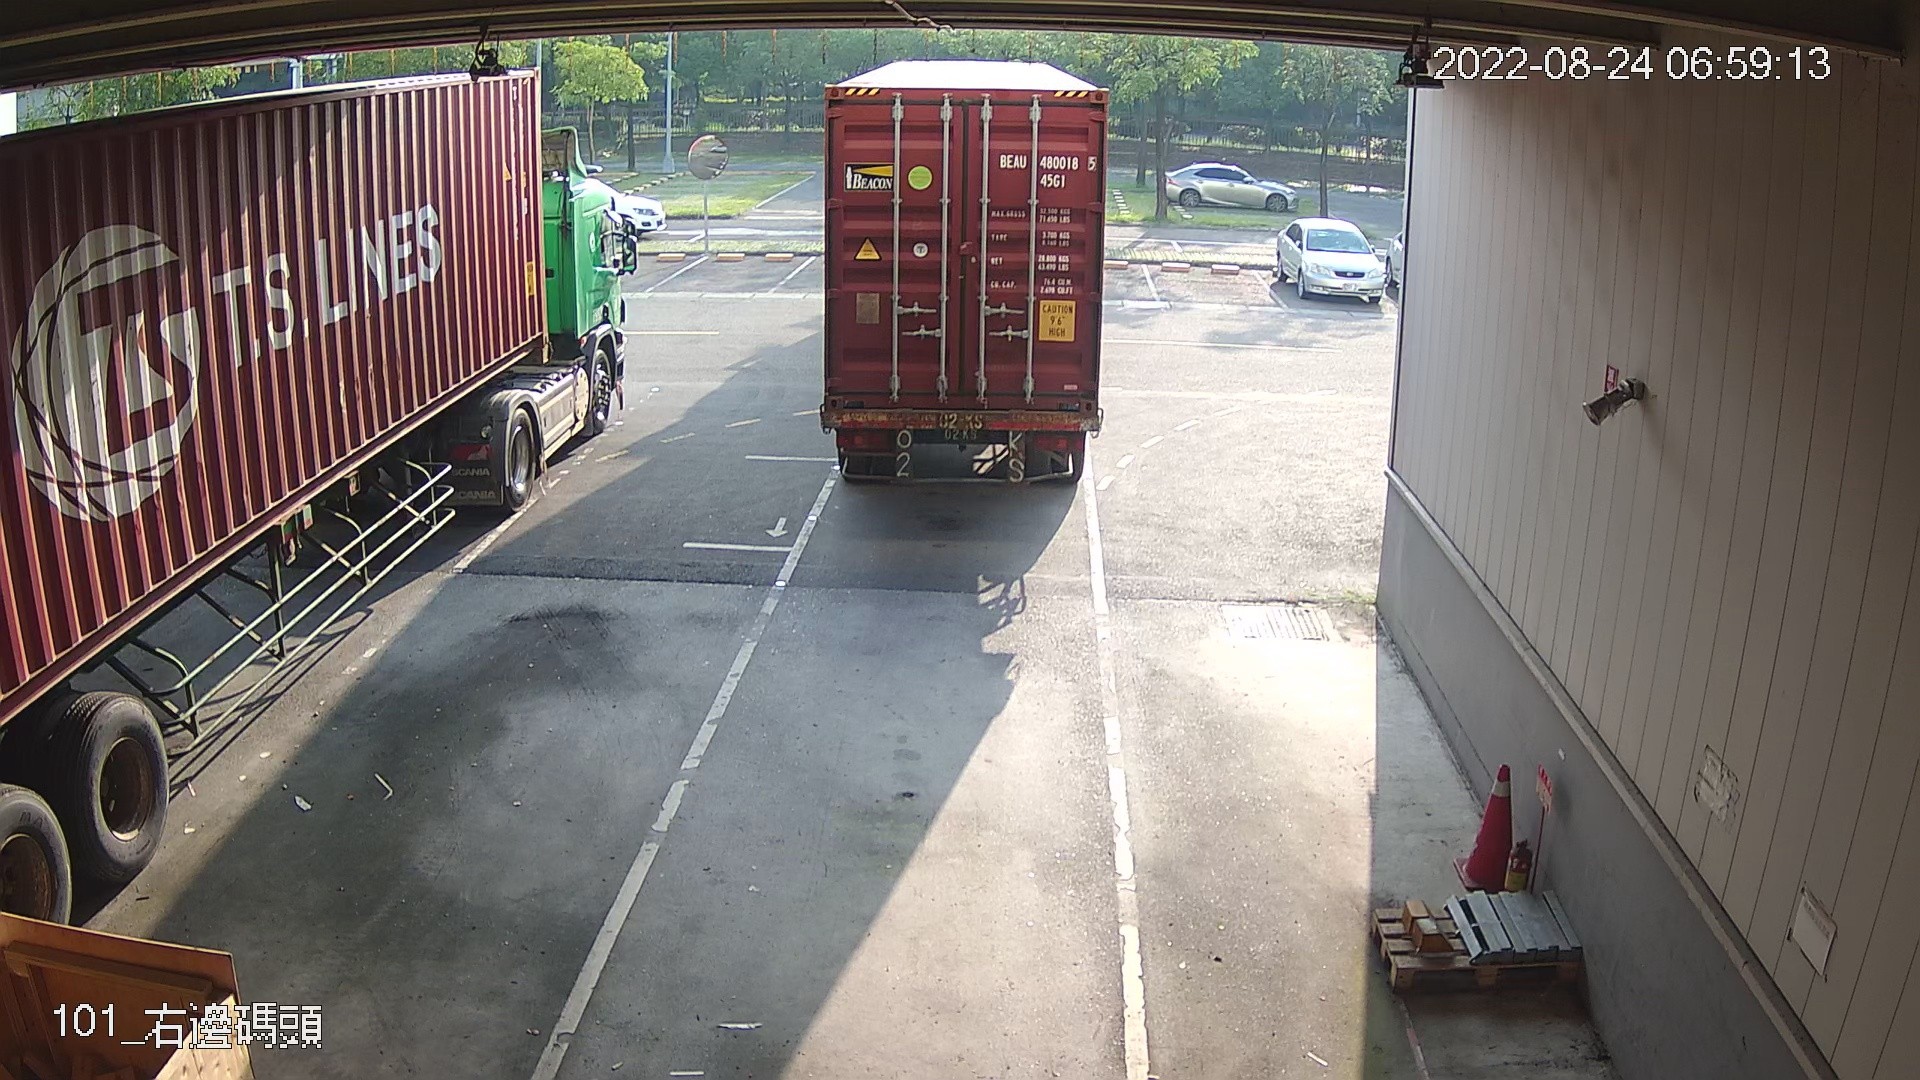container: (996, 146, 1100, 194)
